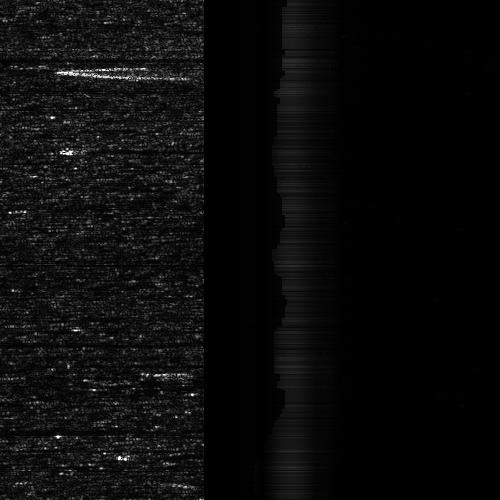shadow: (0, 422, 128, 437), (0, 336, 124, 345)
